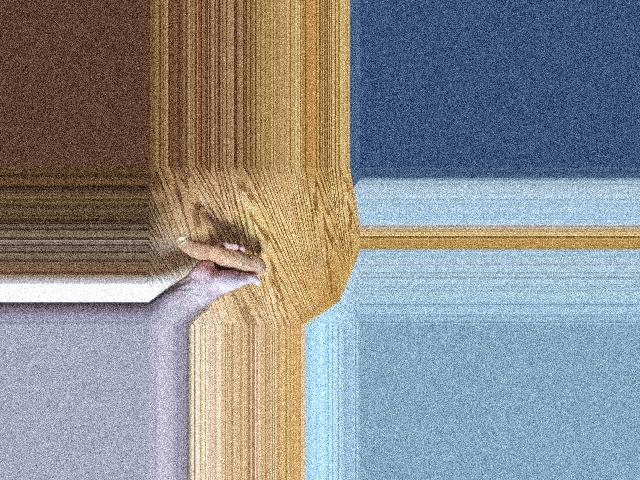sweet_potato: (177, 250, 267, 273)
